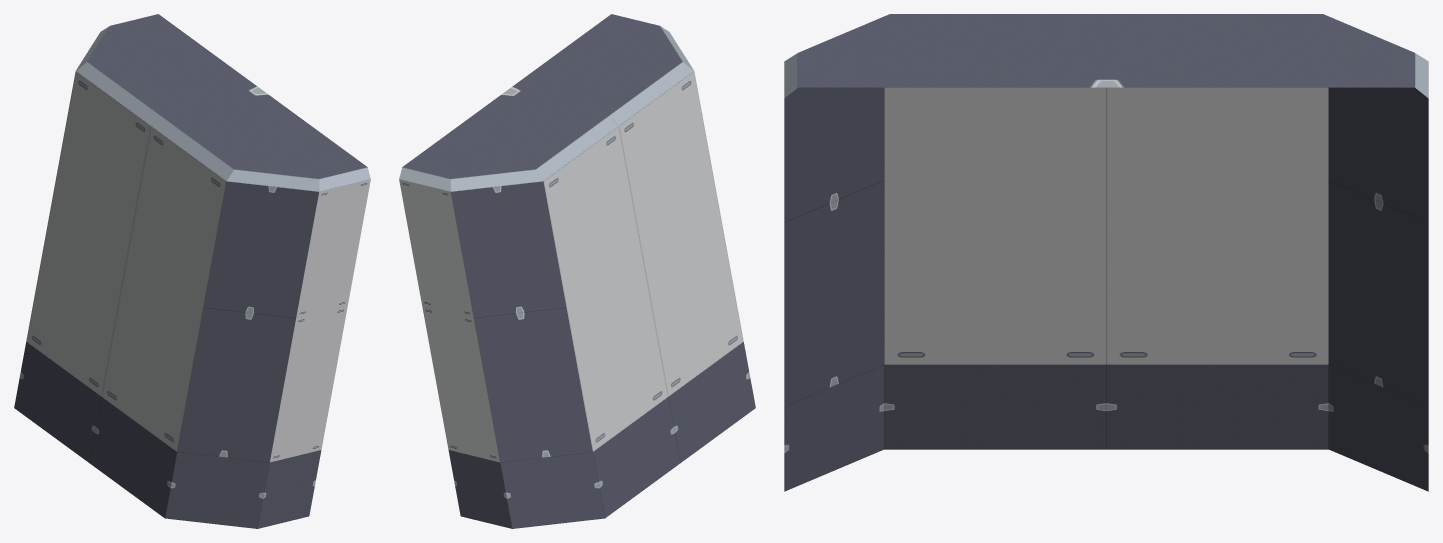
The model's file is Wall_Big_Module_01.FBX.
The picture shows the model from 3 angles, left to right: view 1: azimuth 30°, elevation 25°; view 2: azimuth 150°, elevation 25°; view 3: azimuth 270°, elevation 25°; orthographic projection. The views are drawn at different scales.
Parts seen in each view (by area): view 1: Wall_Big_Module_01; view 2: Wall_Big_Module_01; view 3: Wall_Big_Module_01.
Boxes of the visible parts, box(x1,y1,x2,y2) form: Wall_Big_Module_01: box(14, 14, 370, 528); Wall_Big_Module_01: box(399, 14, 755, 528); Wall_Big_Module_01: box(784, 14, 1428, 491).
Size of the model in its own units: 2.75 by 5 by 6.
